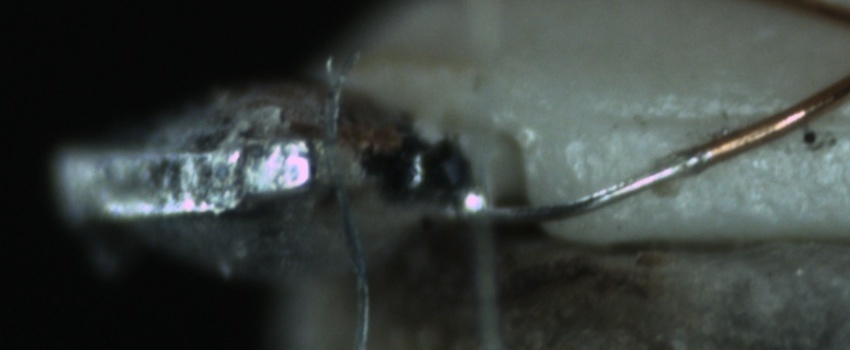DL: (603, 84, 847, 157)
TS: (495, 152, 705, 228)
